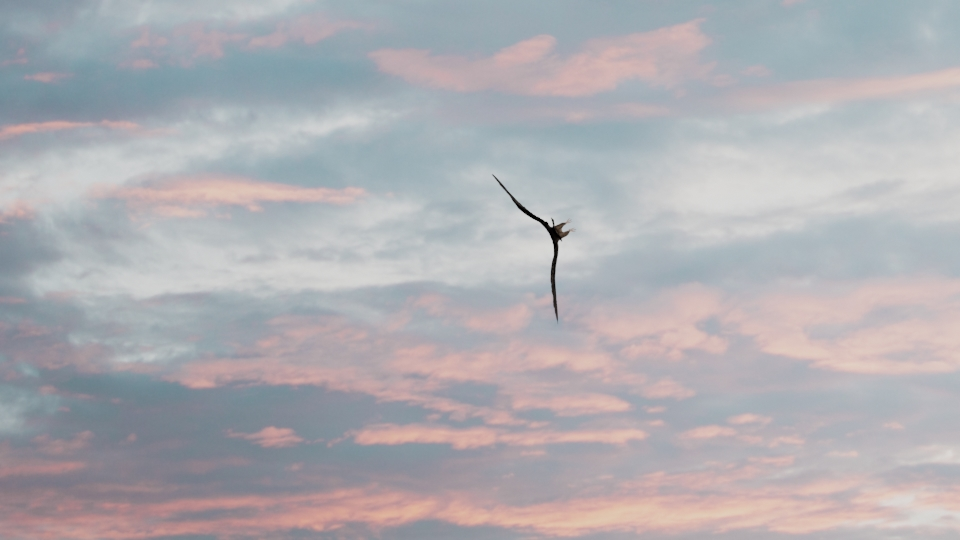bird: (490, 173, 574, 326)
